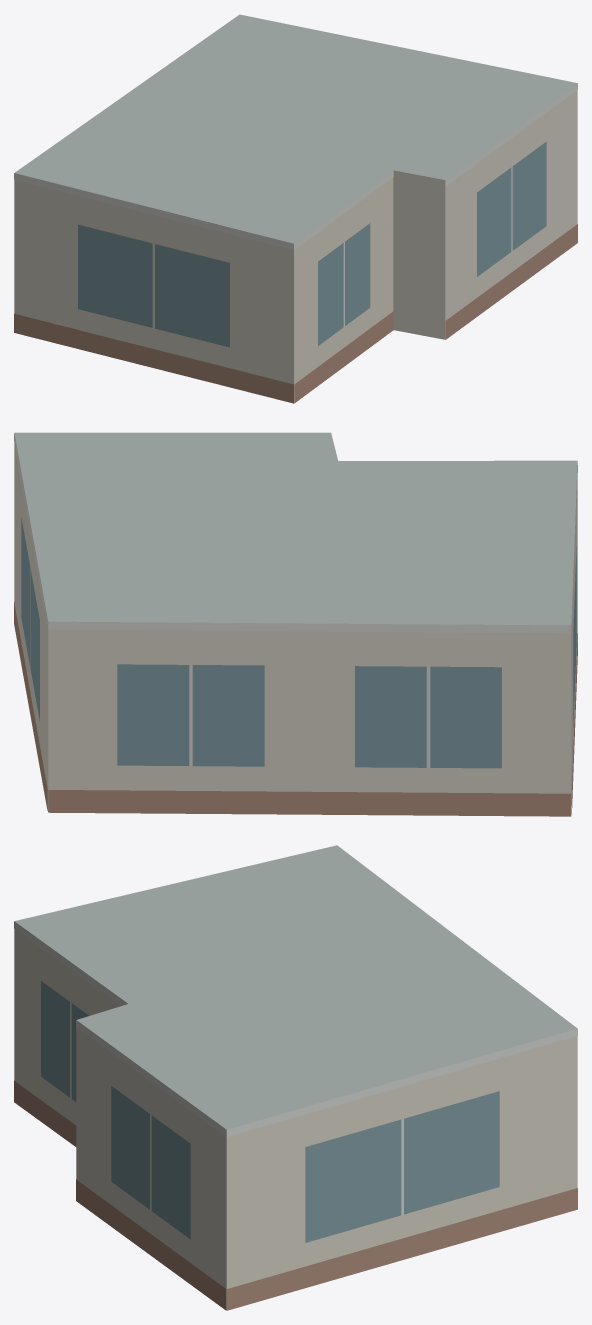
Rendered from survey-upis-32925778.glb.
The picture shows the model from 3 angles, top to bottom: view 1: azimuth 30°, elevation 25°; view 2: azimuth 150°, elevation 25°; view 3: azimuth 270°, elevation 25°; orthographic projection. The views are drawn at different scales.
Visible parts, largest first — view 1: survey-upis-32925778.tmp; view 2: survey-upis-32925778.tmp; view 3: survey-upis-32925778.tmp.
Part boxes in pixels (x1,y1,x2,y2): survey-upis-32925778.tmp: (14,14,577,403); survey-upis-32925778.tmp: (14,432,577,816); survey-upis-32925778.tmp: (14,845,577,1310).
Bounding box in the file's own units: 10.29 × 3.05 × 8.61.
